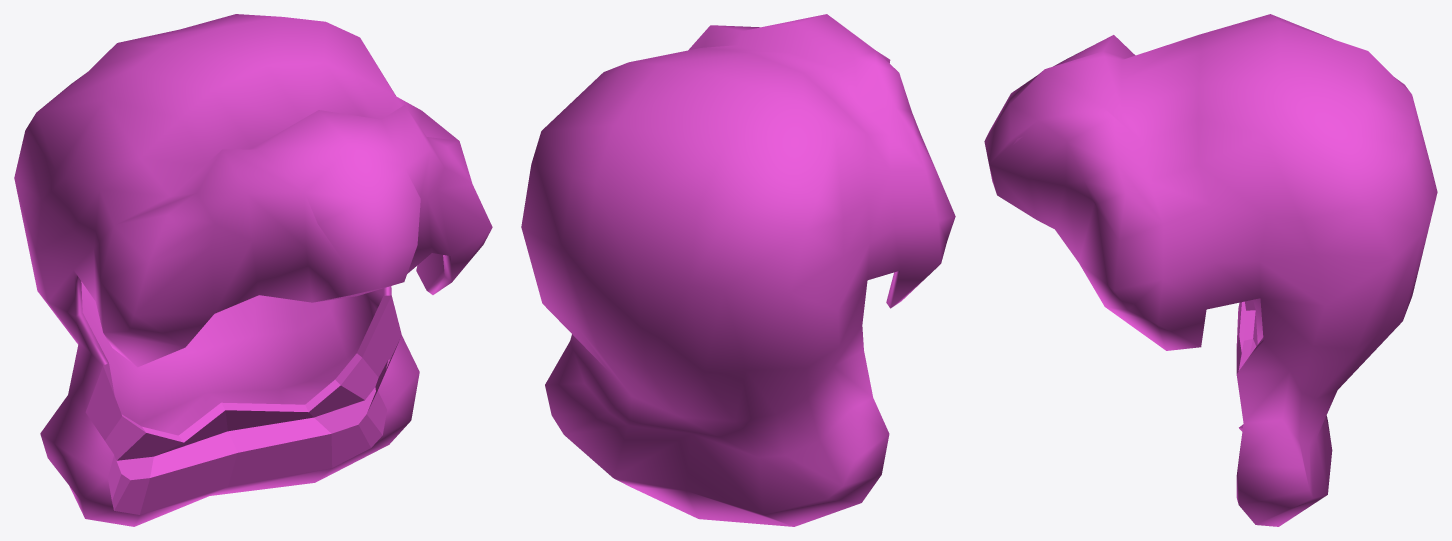
Rendered from character hair 13.fbx.
3 views of the same model, side by side, from view 1: azimuth 30°, elevation 25°; view 2: azimuth 150°, elevation 25°; view 3: azimuth 270°, elevation 25° (orthographic). The views are drawn at different scales.
Visible parts, largest first — view 1: hair13; view 2: hair13; view 3: hair13.
Part boxes in pixels (x1,y1,x2,y2): hair13: [14, 14, 492, 526]; hair13: [521, 14, 955, 526]; hair13: [984, 14, 1437, 526].
Bounding box in the file's own units: 0.4684 × 0.5747 × 0.5317.
